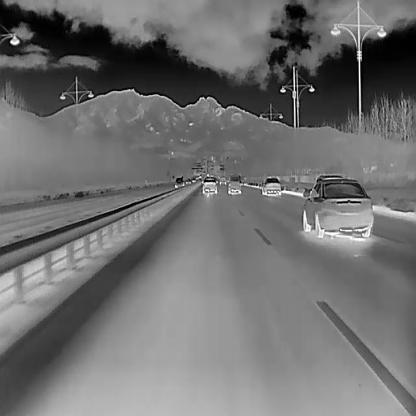car: (301, 176, 373, 238), (262, 177, 282, 197), (227, 174, 240, 194), (201, 177, 217, 193), (174, 176, 184, 188), (218, 176, 226, 186), (185, 177, 190, 185), (191, 177, 196, 183)
